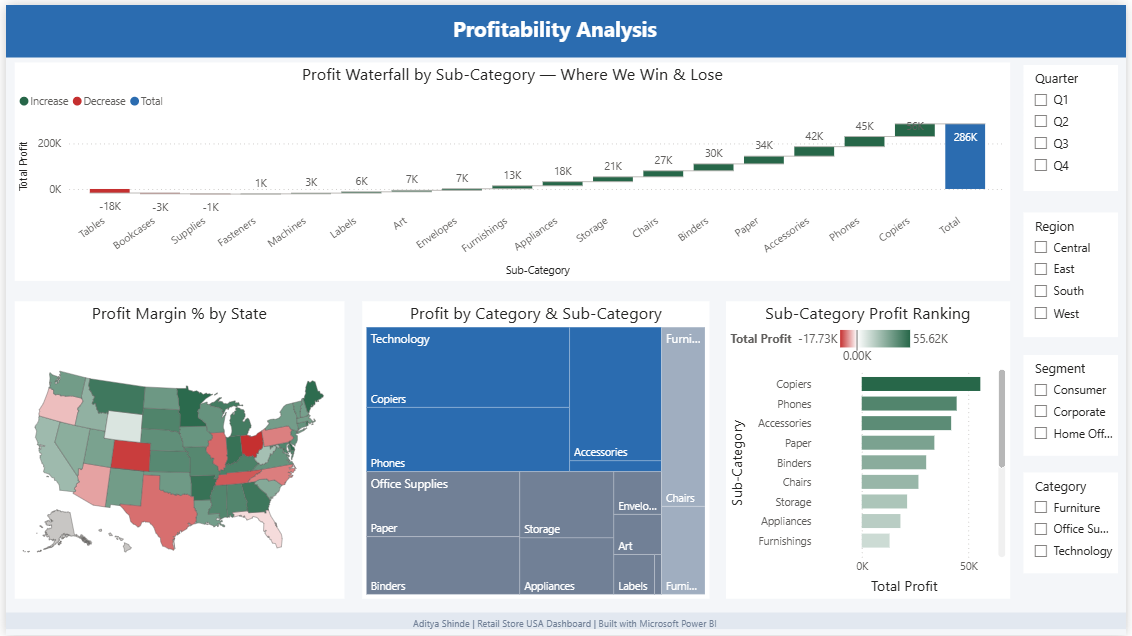

What the dashboard file says about the page in this screenshot:
{"tool":"powerbi","page":{"name":"Profitability Analysis","canvas":[1280,720],"ordinal":2},"visuals":[{"type":"shape","box":[0,0,1280,60.3],"z":0},{"type":"shape","box":[0,695,1280,25],"z":1000},{"type":"textbox","box":[457.2,691,365.6,29],"z":2000},{"type":"textbox","box":[505.5,6,270.2,48.3],"z":3000},{"type":"waterfallChart","title":"Profit Waterfall by Sub-Category —  Where We Win & Lose","fields":{"Category":["Orders.Sub-Category"],"Y":["Measure.Total Profit"]},"box":[9.7,65.1,1137.7,249.7],"z":4000},{"type":"shapeMap","fields":{"Category":["Orders.State"],"Value":["Measure.Profit Margin %"]},"box":[9.7,339,376.4,340.2],"z":5000},{"type":"treemap","title":"Profit by Category & Sub-Category","fields":{"Group":["Orders.Category","Orders.Product Name"],"Details":["Orders.Sub-Category"],"Values":["Sum(Orders.Profit)"]},"box":[407.8,339,396.9,340.2],"z":6000},{"type":"clusteredBarChart","title":"Sub-Category Profit Ranking","fields":{"Category":["Orders.Sub-Category"],"Y":["Measure.Total Profit"]},"box":[822.8,339,324.5,340.2],"z":7000},{"type":"slicer","fields":{"Values":["DateTable.Quarter"]},"box":[1163,68,108,144],"z":8000},{"type":"slicer","fields":{"Values":["Orders.Region"]},"box":[1163,237,108,142],"z":9000},{"type":"slicer","fields":{"Values":["Orders.Segment"]},"box":[1163,400,108,115],"z":10000},{"type":"slicer","fields":{"Values":["Orders.Category"]},"box":[1163,534,108,115],"z":11000}]}

Visuals, with their boxes in screenshot pixels (x1, y1, x2, y2), scaled from the page's 1280x720 canvas onto the 1132x636 screenshot:
shape: Rect(0, 0, 1131, 53)
shape: Rect(0, 614, 1131, 635)
textbox: Rect(404, 610, 728, 635)
textbox: Rect(447, 5, 686, 48)
"Profit Waterfall by Sub-Category —  Where We Win & Lose" waterfallChart: Rect(9, 58, 1015, 278)
shapeMap - Orders.State x Measure.Profit Margin %: Rect(9, 299, 341, 600)
"Profit by Category & Sub-Category" treemap: Rect(361, 299, 712, 600)
"Sub-Category Profit Ranking" clusteredBarChart: Rect(728, 299, 1015, 600)
slicer - DateTable.Quarter: Rect(1029, 60, 1124, 187)
slicer - Orders.Region: Rect(1029, 209, 1124, 335)
slicer - Orders.Segment: Rect(1029, 353, 1124, 455)
slicer - Orders.Category: Rect(1029, 472, 1124, 573)
